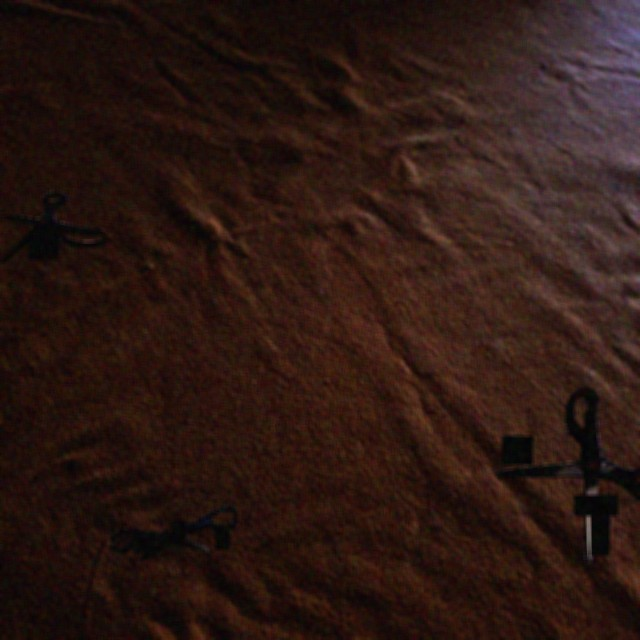scissors: (494, 386, 640, 562), (0, 191, 107, 263), (111, 506, 238, 560)
